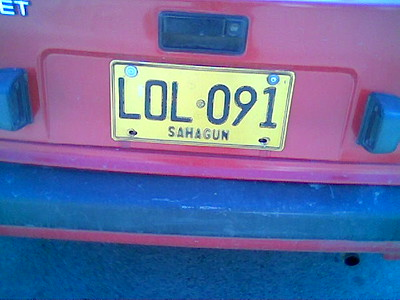placa_carro: (99, 51, 312, 170)
